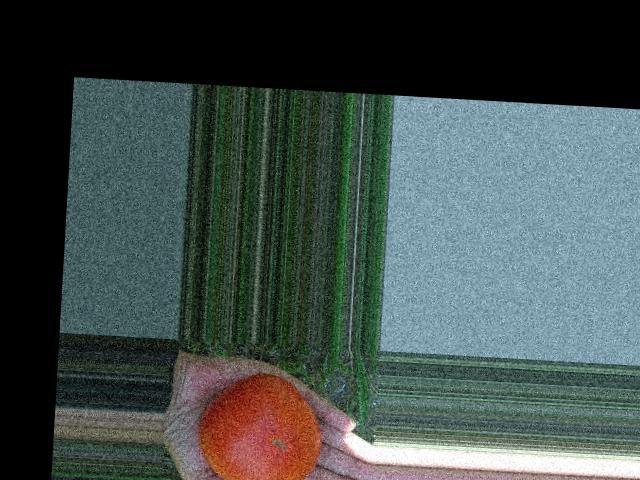tomato: (197, 369, 325, 480)
